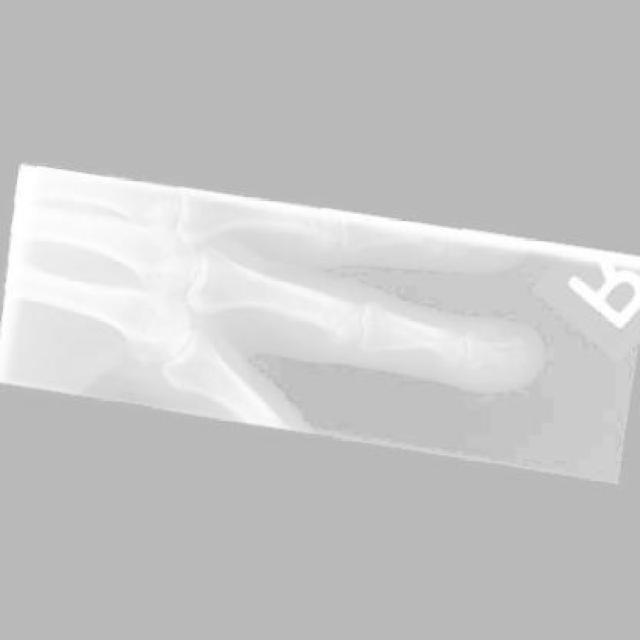Fracture: (485, 328, 536, 376)
